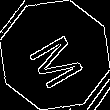M_NE: (21, 23, 89, 87)
